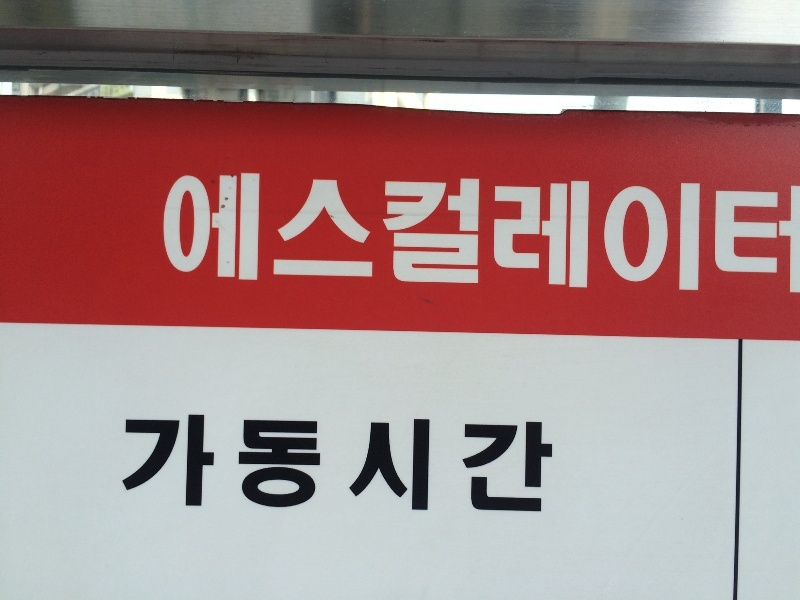text: (177, 173, 192, 296), (193, 173, 208, 296), (209, 173, 224, 296), (225, 173, 240, 296), (241, 173, 256, 296), (257, 173, 272, 296), (273, 173, 288, 296), (289, 173, 304, 296), (305, 173, 320, 296), (321, 173, 336, 296), (337, 173, 352, 296), (353, 173, 368, 296), (369, 173, 384, 296), (385, 173, 400, 296), (401, 173, 416, 296), (417, 173, 432, 296), (433, 173, 448, 296), (449, 173, 464, 296), (465, 173, 480, 296), (481, 173, 496, 296), (497, 173, 512, 296), (513, 173, 528, 296), (529, 173, 544, 296), (545, 173, 560, 296), (561, 173, 576, 296), (577, 173, 592, 296), (593, 173, 608, 296), (609, 173, 624, 296), (625, 173, 640, 296), (641, 173, 656, 296), (657, 173, 672, 296), (673, 173, 688, 296), (689, 173, 704, 296), (705, 173, 720, 296), (721, 173, 736, 296), (737, 173, 752, 296), (753, 173, 768, 296), (769, 173, 784, 296), (785, 173, 800, 296), (129, 410, 144, 517), (145, 410, 160, 517), (161, 410, 176, 517), (177, 410, 192, 517), (193, 410, 208, 517), (209, 410, 224, 517), (225, 410, 240, 517), (241, 410, 256, 517), (257, 410, 272, 517), (273, 410, 288, 517), (289, 410, 304, 517), (305, 410, 320, 517), (321, 410, 336, 517), (337, 410, 352, 517), (353, 410, 368, 517), (369, 410, 384, 517), (385, 410, 400, 517), (401, 410, 416, 517), (417, 410, 432, 517), (433, 410, 448, 517), (449, 410, 464, 517), (465, 410, 480, 517), (481, 410, 496, 517), (497, 410, 512, 517), (513, 410, 528, 517), (529, 410, 544, 517), (167, 173, 176, 296), (545, 410, 555, 517), (124, 410, 128, 517)
